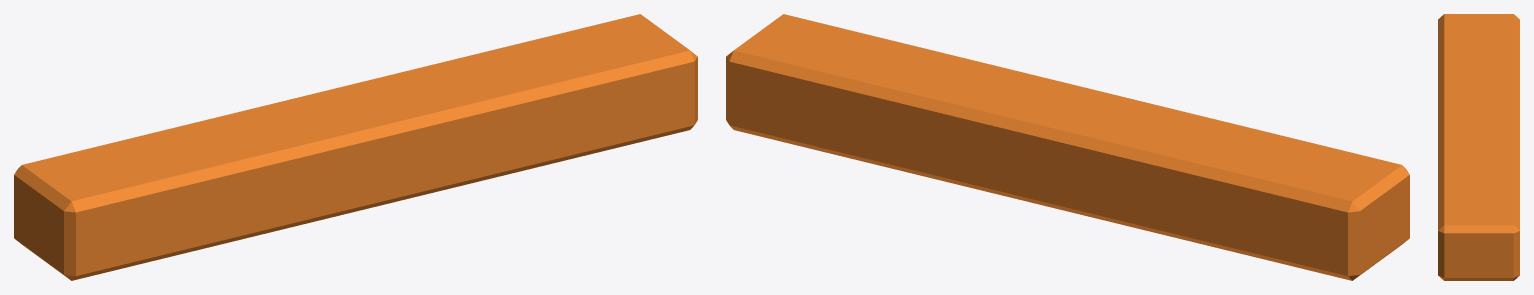
The model's file is rotating_arm.glb.
3 views of the same model, side by side, from view 1: azimuth 30°, elevation 25°; view 2: azimuth 150°, elevation 25°; view 3: azimuth 270°, elevation 25° (orthographic). The views are drawn at different scales.
Visible parts, largest first — view 1: rotating_arm; view 2: rotating_arm; view 3: rotating_arm.
Part boxes in pixels (<box>): rotating_arm: <box>14,14,697,280</box>; rotating_arm: <box>726,14,1409,280</box>; rotating_arm: <box>1438,14,1519,280</box>.
Size of the model in its own units: 0.5 by 0.06 by 0.08.
